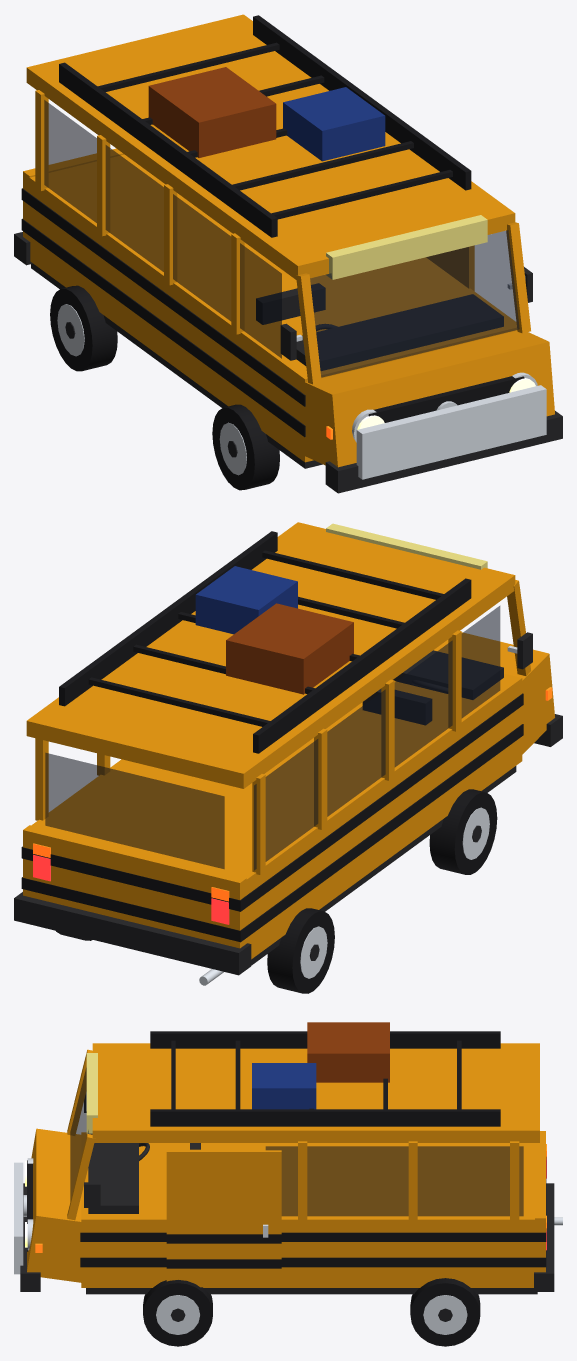
File: Danfo.glb
3 views of the same model, one above another, from view 1: azimuth 30°, elevation 25°; view 2: azimuth 150°, elevation 25°; view 3: azimuth 270°, elevation 25° (orthographic). The views are drawn at different scales.
Visible parts, largest first — view 1: LowerBody, Roof, RoofCarrierRack, FrontWindshield, LeftWindows, FrontBonnet, BusBody, BullBar, Dashboard, DestinationSignboard, RearLeftWheel, FrontLeftWheel (+7 smaller); view 2: LowerBody, Roof, RoofCarrierRack, LeftWindows, BusBody, RearWindow, RearTailgate, RearBumper, FrontBonnet, RearLeftWheel, FrontLeftWheel, BlackStripeLower (+4 smaller); view 3: LowerBody, Roof, RoofCarrierRack, SlidingDoor, RightWindows, FrontBonnet, BusBody, RearRightWheel, FrontRightWheel, BlackStripeLower, BlackStripeUpper, Dashboard (+7 smaller).
Boxes of the visible parts, <box> form: LowerBody: <box>25,154,517,462</box>; Roof: <box>26,14,515,279</box>; RoofCarrierRack: <box>59,15,471,237</box>; FrontWindshield: <box>310,230,519,377</box>; LeftWindows: <box>44,100,281,358</box>; FrontBonnet: <box>305,330,554,467</box>; BusBody: <box>21,90,537,442</box>; BullBar: <box>356,385,546,479</box>; Dashboard: <box>296,294,503,370</box>; DestinationSignboard: <box>326,215,487,279</box>; RearLeftWheel: <box>50,285,117,371</box>; FrontLeftWheel: <box>212,404,279,490</box>; LowerBody: <box>31,673,522,959</box>; Roof: <box>26,522,515,788</box>; RoofCarrierRack: <box>59,531,471,753</box>; LeftWindows: <box>254,606,500,870</box>; BusBody: <box>21,580,532,942</box>; RearWindow: <box>45,753,224,868</box>; RearTailgate: <box>23,825,246,948</box>; RearBumper: <box>14,892,251,975</box>; FrontBonnet: <box>433,632,554,757</box>; RearLeftWheel: <box>267,908,334,993</box>; FrontLeftWheel: <box>429,789,497,874</box>; BlackStripeLower: <box>242,724,523,940</box>; LowerBody: <box>81,1132,542,1287</box>; Roof: <box>92,1043,539,1142</box>; RoofCarrierRack: <box>150,1022,500,1126</box>; SlidingDoor: <box>166,1149,281,1287</box>; RightWindows: <box>265,1146,523,1216</box>; FrontBonnet: <box>27,1128,93,1282</box>; BusBody: <box>23,1049,546,1267</box>; RearRightWheel: <box>410,1278,480,1346</box>; FrontRightWheel: <box>143,1280,212,1346</box>; BlackStripeLower: <box>80,1257,543,1267</box>; BlackStripeUpper: <box>80,1232,543,1241</box>; Dashboard: <box>88,1133,138,1213</box>.
Size of the model in its own units: 2.53 by 2.92 by 5.95.
